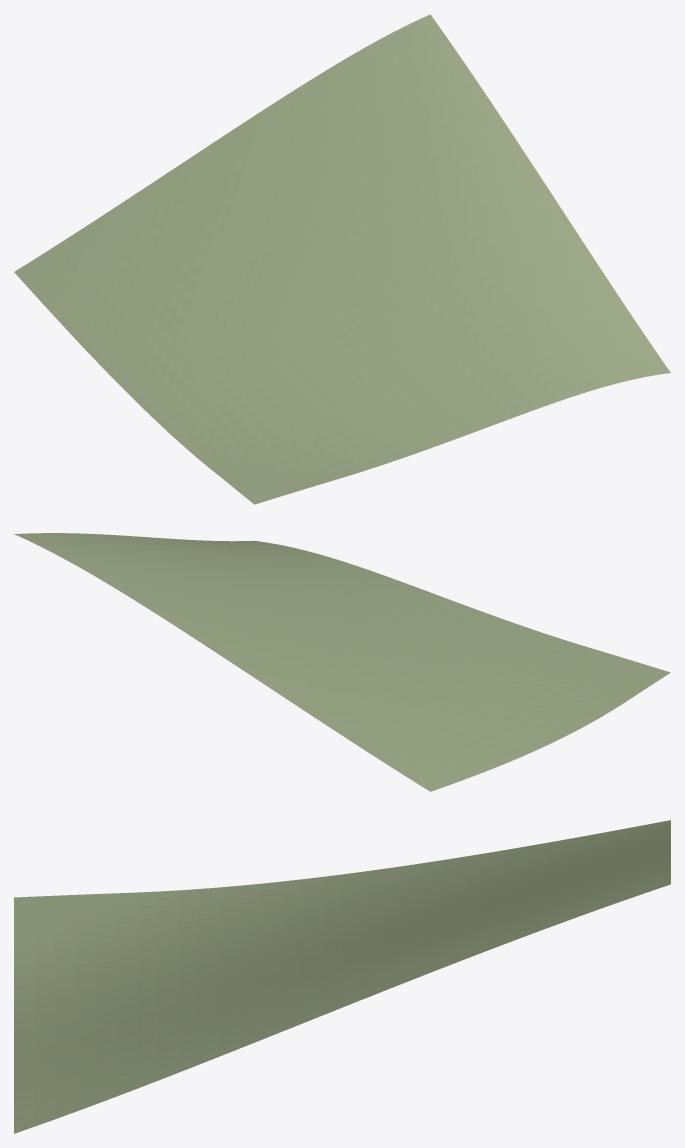
Rendered from expanse-13-8.glb.
3 views of the same model, one above another, from view 1: azimuth 30°, elevation 25°; view 2: azimuth 150°, elevation 25°; view 3: azimuth 270°, elevation 25° (orthographic). The views are drawn at different scales.
Visible parts, largest first — view 1: expanse-13-8; view 2: expanse-13-8; view 3: expanse-13-8.
Boxes of the visible parts, left/top/right/bottom form: expanse-13-8: left=14, top=14, right=670, bottom=504; expanse-13-8: left=14, top=533, right=670, bottom=791; expanse-13-8: left=14, top=820, right=670, bottom=1133.
Bounding box in the file's own units: 256 × 125 × 256.
